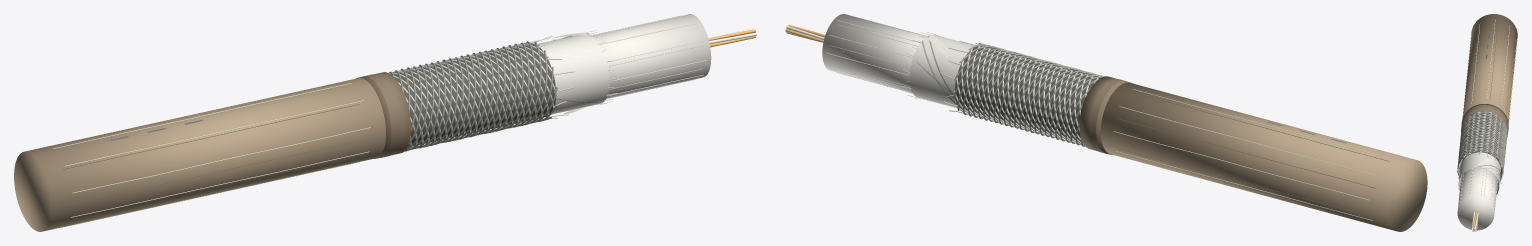
The model's file is rf-gorephaseflex024-macro.glb.
3 views of the same model, side by side, from view 1: azimuth 30°, elevation 25°; view 2: azimuth 150°, elevation 25°; view 3: azimuth 270°, elevation 25° (orthographic). The views are drawn at different scales.
Parts seen in each view (by area): view 1: macro jacket body, macro dielectric exposed core, shadow seen through braid windows, continuous foil sleeve under braid, thick jacket cut wall, rounded jacket cut lip, jacket axial surface line 05, jacket axial surface line 04, jacket axial surface line 06; view 2: macro jacket body, macro dielectric exposed core, shadow seen through braid windows, continuous foil sleeve under braid, thick jacket cut wall, rounded jacket cut lip, macro braid shadow carrier 08 strand 1, macro braid shadow carrier 04 strand 1, macro braid shadow carrier 06 strand 1; view 3: macro jacket body, macro dielectric exposed core, continuous foil sleeve under braid, shadow seen through braid windows, thick jacket cut wall, macro braid shadow carrier 10 strand 2, macro braid shadow carrier 05 strand 2, macro braid shadow carrier 11 strand 2, macro braid shadow carrier 08 strand 2, macro braid shadow carrier 06 strand 2, macro braid shadow carrier 09 strand 2, macro braid shadow carrier 04 strand 2 (+40 smaller).
Part boxes in pixels (left/top/right/bottom): macro jacket body: left=14, top=78, right=385, bottom=231; macro dielectric exposed core: left=592, top=14, right=711, bottom=98; shadow seen through braid windows: left=394, top=44, right=555, bottom=147; continuous foil sleeve under braid: left=538, top=33, right=609, bottom=114; thick jacket cut wall: left=356, top=72, right=410, bottom=158; rounded jacket cut lip: left=362, top=74, right=399, bottom=157; jacket axial surface line 05: left=72, top=127, right=370, bottom=193; jacket axial surface line 04: left=65, top=100, right=363, bottom=166; jacket axial surface line 06: left=71, top=151, right=369, bottom=217; macro jacket body: left=1100, top=82, right=1427, bottom=231; macro dielectric exposed core: left=822, top=14, right=926, bottom=92; shadow seen through braid windows: left=955, top=46, right=1099, bottom=141; continuous foil sleeve under braid: left=909, top=34, right=974, bottom=107; thick jacket cut wall: left=1079, top=76, right=1132, bottom=154; rounded jacket cut lip: left=1089, top=79, right=1124, bottom=153; macro braid shadow carrier 08 strand 1: left=968, top=45, right=1096, bottom=141; macro braid shadow carrier 04 strand 1: left=958, top=50, right=1084, bottom=146; macro braid shadow carrier 06 strand 1: left=954, top=47, right=1082, bottom=143; macro jacket body: left=1462, top=14, right=1517, bottom=122; macro dielectric exposed core: left=1457, top=167, right=1497, bottom=230; continuous foil sleeve under braid: left=1458, top=152, right=1501, bottom=194; shadow seen through braid windows: left=1459, top=113, right=1501, bottom=176; thick jacket cut wall: left=1461, top=104, right=1508, bottom=136; macro braid shadow carrier 10 strand 2: left=1457, top=114, right=1506, bottom=167; macro braid shadow carrier 05 strand 2: left=1458, top=125, right=1507, bottom=174; macro braid shadow carrier 11 strand 2: left=1457, top=115, right=1506, bottom=176; macro braid shadow carrier 08 strand 2: left=1458, top=111, right=1506, bottom=162; macro braid shadow carrier 06 strand 2: left=1459, top=118, right=1507, bottom=164; macro braid shadow carrier 09 strand 2: left=1457, top=112, right=1506, bottom=165; macro braid shadow carrier 04 strand 2: left=1458, top=123, right=1505, bottom=181.
Bounding box in the file's own units: 6.43 × 0.6629 × 0.8563.
